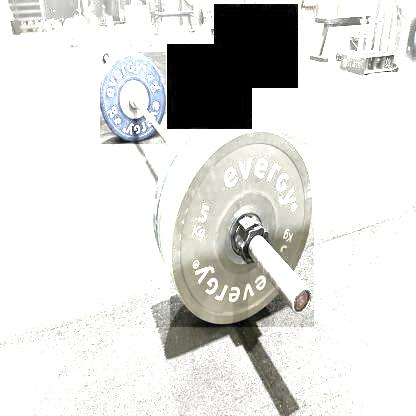barbell: (170, 131, 315, 328), (101, 52, 167, 144)
